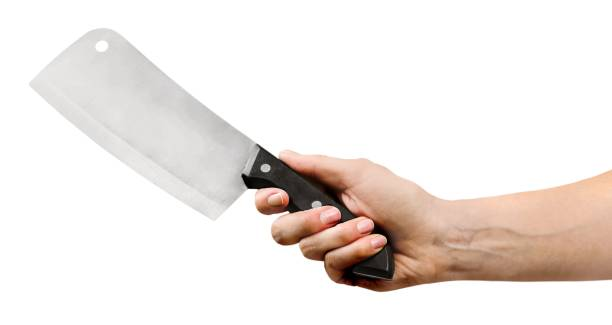knife: (27, 26, 392, 281)
